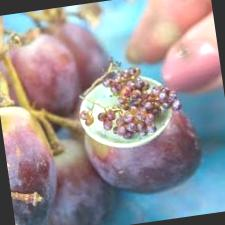Grape Rotten: (71, 45, 204, 200), (89, 59, 184, 142)
